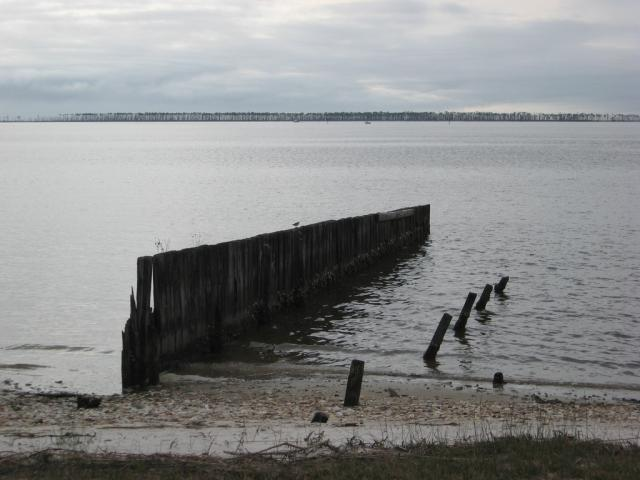Bird: (292, 221, 302, 228)
